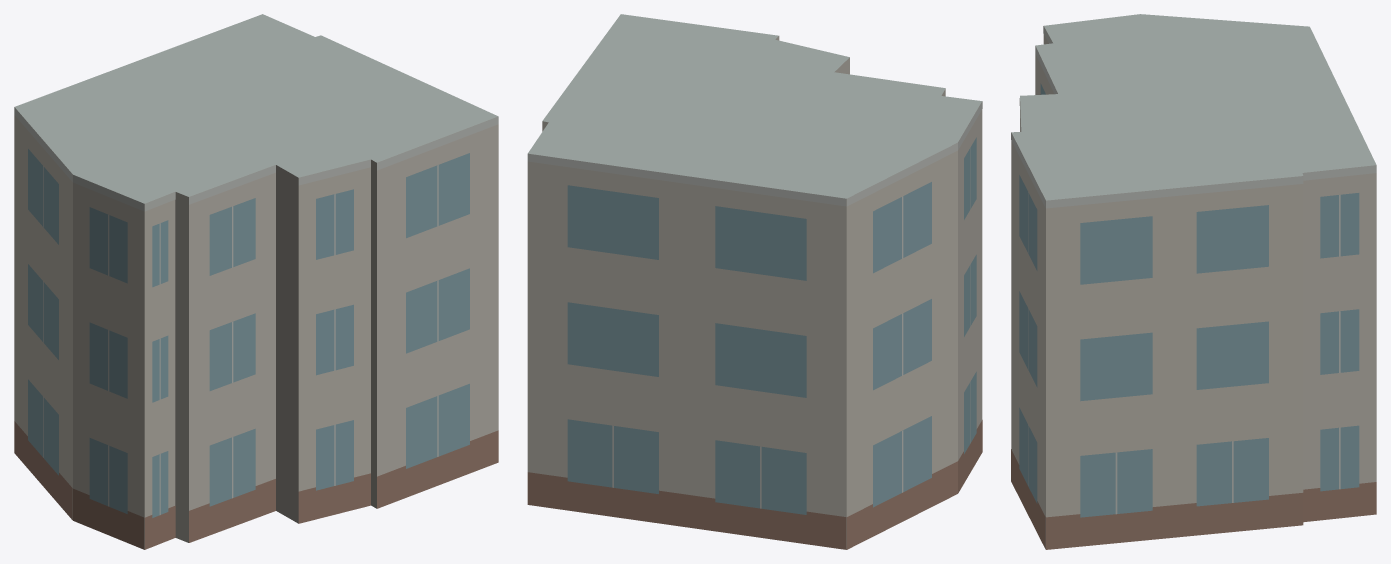
Rendered from survey-upis-32632632.glb.
3 views of the same model, side by side, from view 1: azimuth 30°, elevation 25°; view 2: azimuth 150°, elevation 25°; view 3: azimuth 270°, elevation 25° (orthographic).
Visible parts, largest first — view 1: survey-upis-32632632.tmp; view 2: survey-upis-32632632.tmp; view 3: survey-upis-32632632.tmp.
Boxes of the visible parts, box(x1,y1,x2,y2) form: survey-upis-32632632.tmp: box(14, 14, 498, 549); survey-upis-32632632.tmp: box(527, 14, 982, 549); survey-upis-32632632.tmp: box(1011, 14, 1376, 549).
Size of the model in its own units: 12.38 by 10.8 by 10.25.
